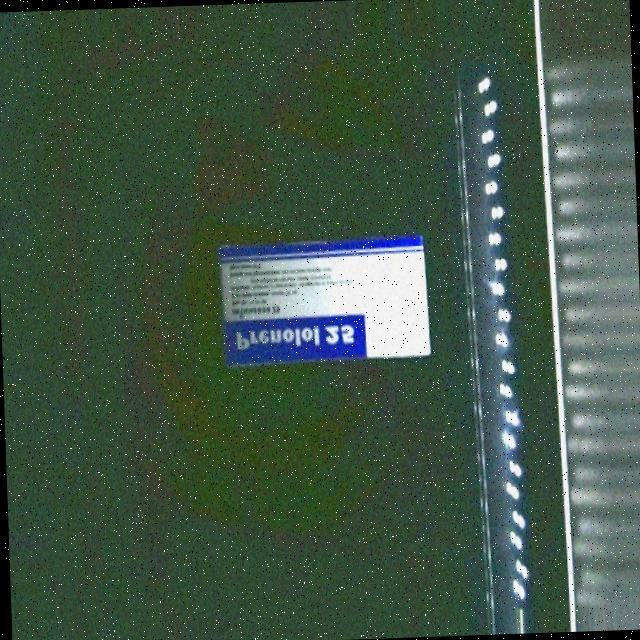prenolol: (217, 234, 433, 359)
